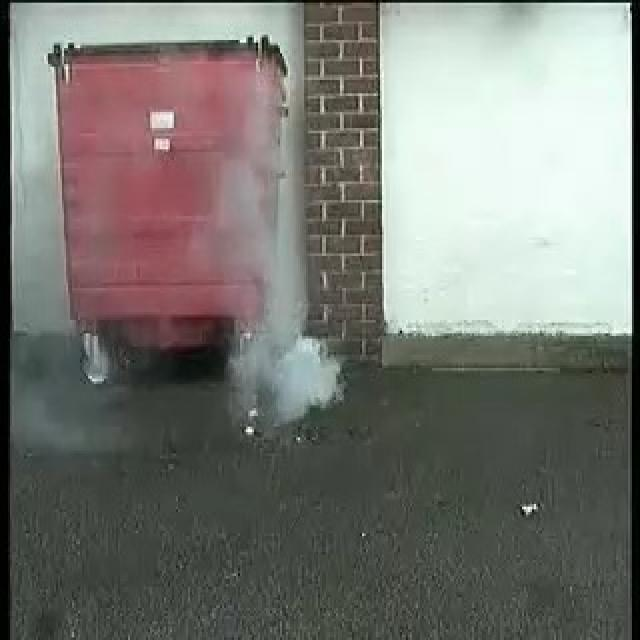smoke: (221, 162, 342, 418), (223, 306, 225, 308)
